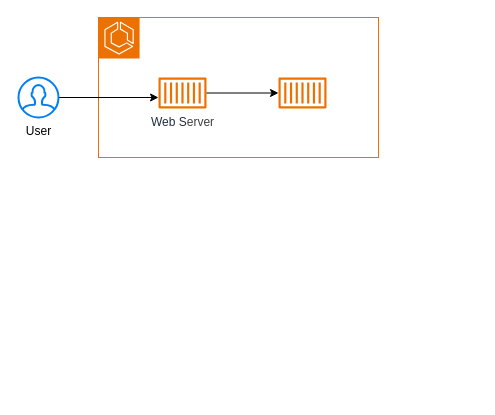
Image size: 495x415. Some labels were removed from this diagram. The shapes that lost their labels are listed below. From the top down, each one's box as (x1, y1, x2, y2) in pixels, then its label:
(98, 16, 140, 59): ECS
(278, 77, 326, 108): DB
